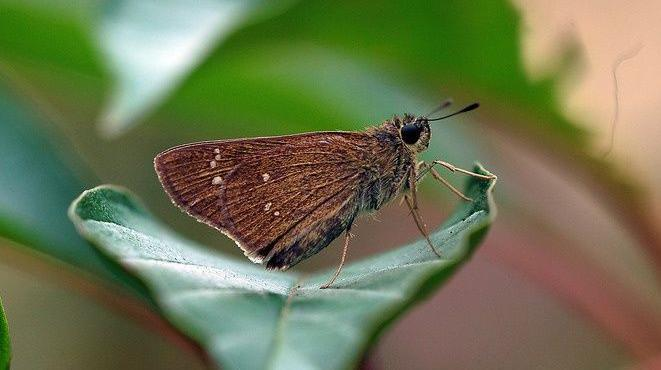Hesperiidae: (150, 91, 482, 282)
